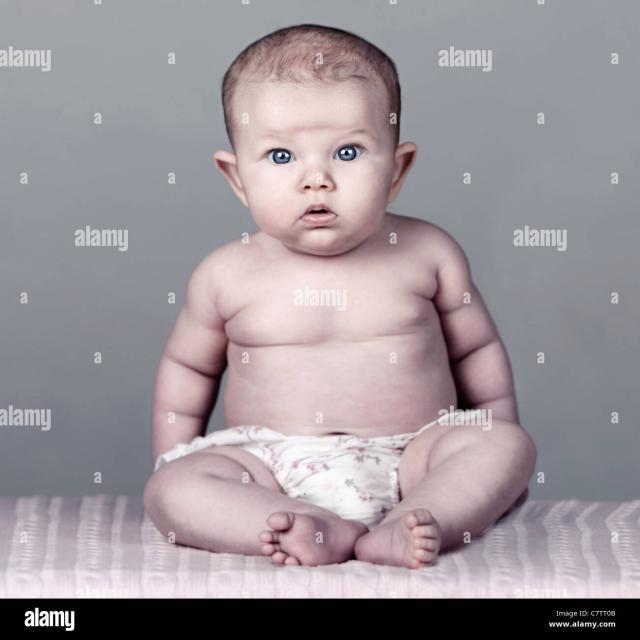non-dog: (137, 19, 539, 574)
